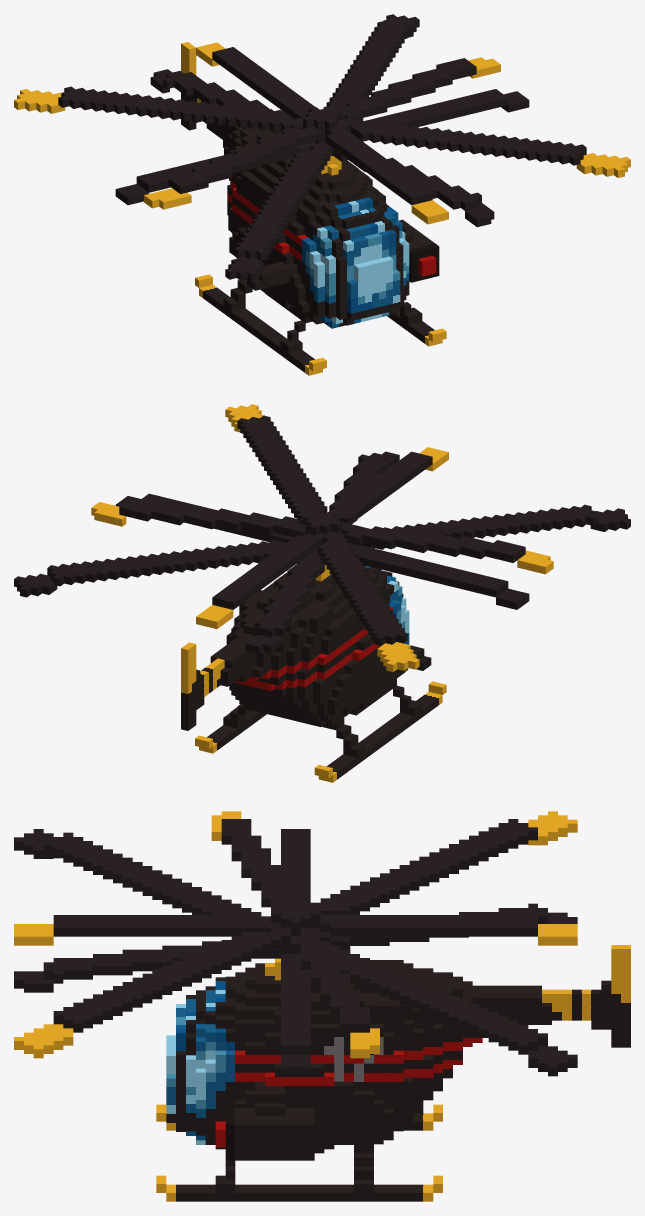
Rendered from modelo.gltf.
3 views of the same model, one above another, from view 1: azimuth 30°, elevation 25°; view 2: azimuth 150°, elevation 25°; view 3: azimuth 270°, elevation 25° (orthographic). The views are drawn at different scales.
Parts seen in each view (by area): view 1: Rotor_Top-Local, Base_Helicopter-Local; view 2: Rotor_Top-Local, Base_Helicopter-Local; view 3: Rotor_Top-Local, Base_Helicopter-Local.
Boxes of the visible parts, left/top/right/bottom form: Rotor_Top-Local: left=14, top=14, right=630, bottom=281; Base_Helicopter-Local: left=181, top=42, right=446, bottom=375; Rotor_Top-Local: left=14, top=404, right=630, bottom=671; Base_Helicopter-Local: left=181, top=565, right=446, bottom=782; Rotor_Top-Local: left=14, top=811, right=577, bottom=1076; Base_Helicopter-Local: left=156, top=945, right=630, bottom=1201.
Size of the model in its own units: 57 by 27.87 by 62.4.
2 materials, 2 textured.
